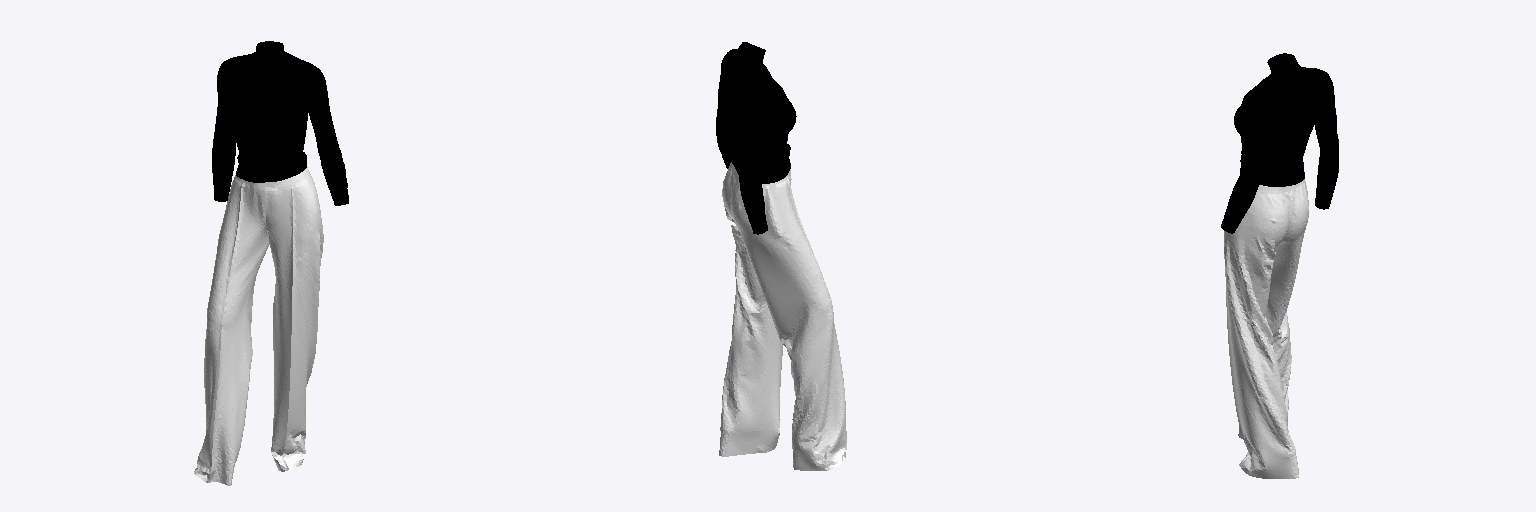
The model's file is DA_HighNeck+WidePants_0000090.obj.
3 views of the same model, side by side, from view 1: azimuth 30°, elevation 25°; view 2: azimuth 150°, elevation 25°; view 3: azimuth 270°, elevation 25° (orthographic).
Size of the model in its own units: 0.5621 by 1.63 by 0.4247.